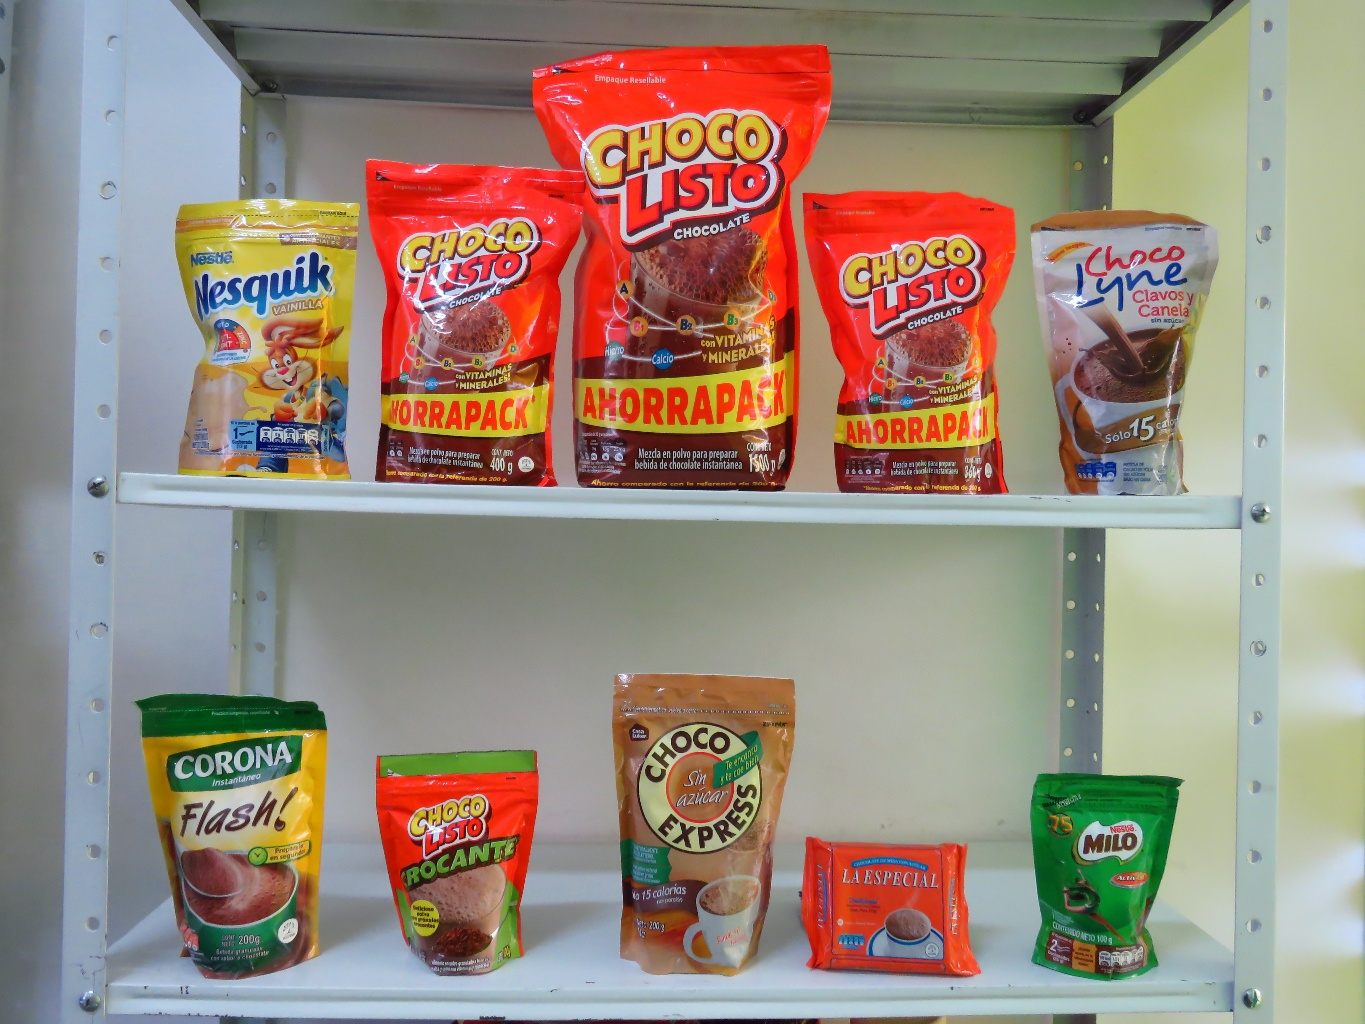COL0170102DYP10000: (376, 751, 541, 975)
COL0170103DYP1,500: (529, 39, 831, 490)
COL0170103DYP36000: (798, 190, 1024, 496)
COL0170103DYP40000: (366, 156, 587, 497)
COL0170203DYP10000: (1033, 771, 1184, 982)
COL0170306DYP20000: (174, 202, 359, 482)
